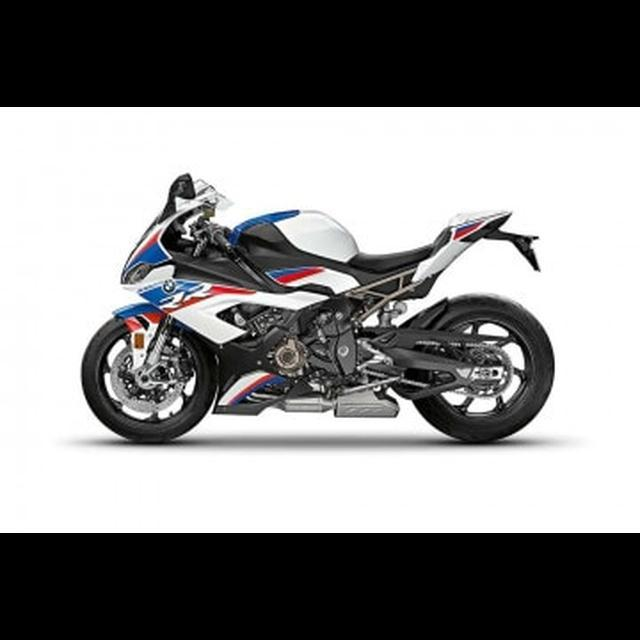motorcycle: (75, 165, 559, 447)
